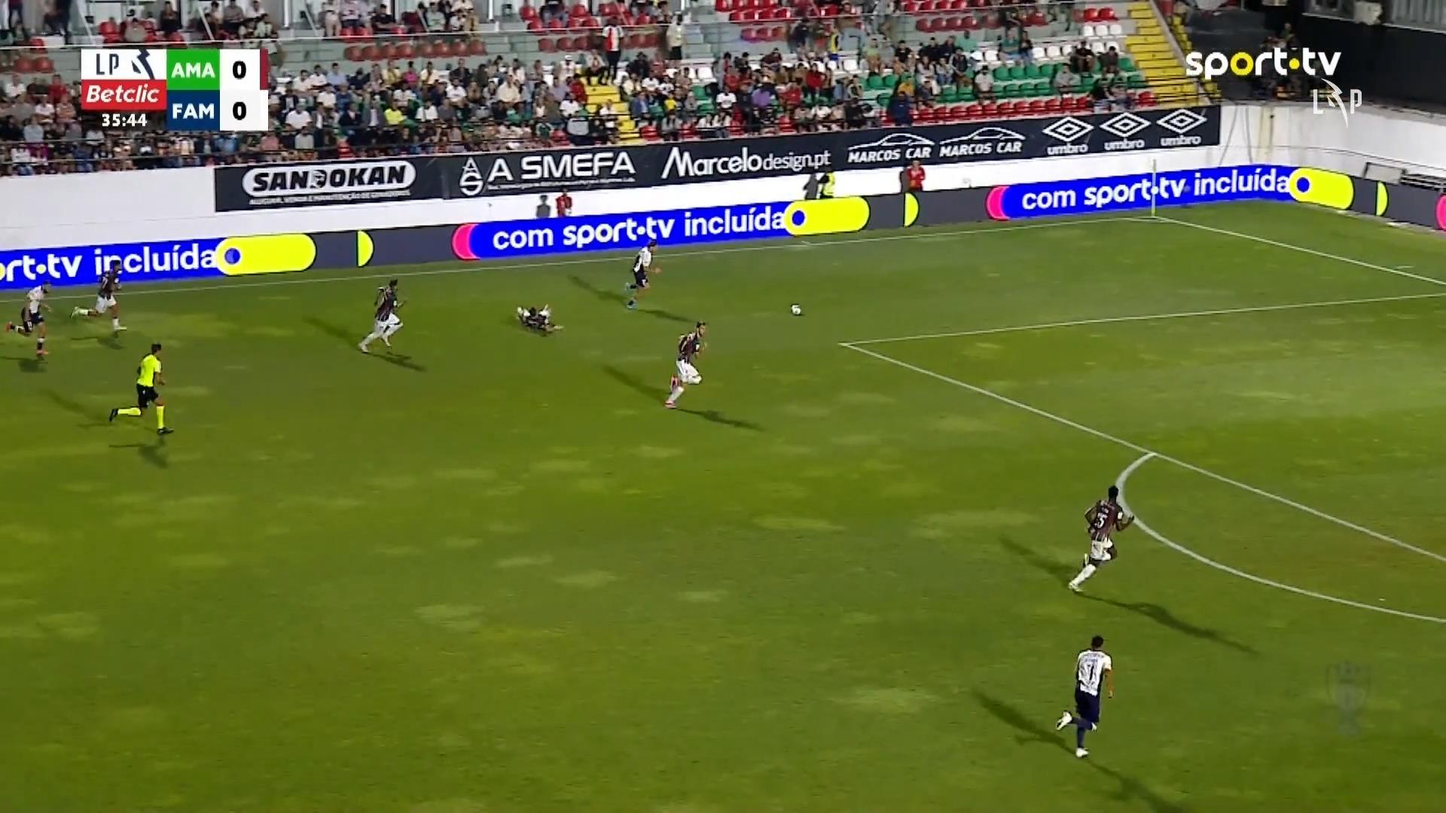ball: (790, 303, 801, 315)
player: (1054, 634, 1114, 758), (1066, 484, 1134, 593), (69, 257, 127, 332), (663, 319, 708, 409), (357, 277, 405, 354), (5, 280, 52, 358), (624, 239, 661, 309), (515, 303, 563, 333)
referee: (107, 341, 175, 435)
